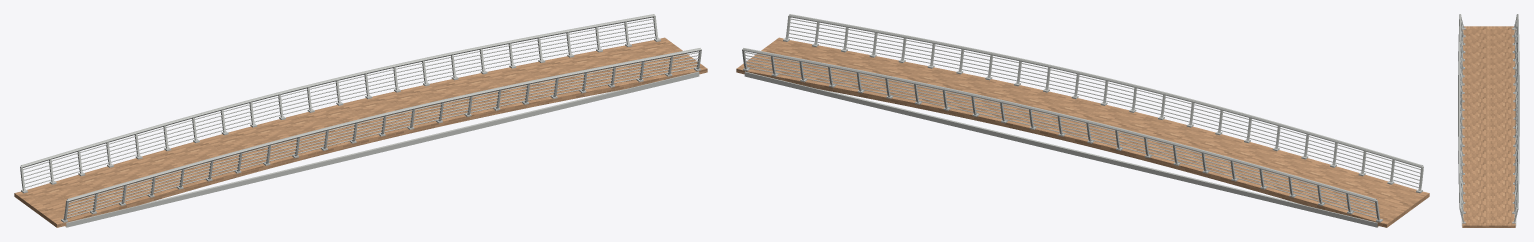
3 views of the same model, side by side, from view 1: azimuth 30°, elevation 25°; view 2: azimuth 150°, elevation 25°; view 3: azimuth 270°, elevation 25° (orthographic). The views are drawn at different scales.
Parts seen in each view (by area): view 1: libraryBridge__brickpaving, libraryBridge__steel, libraryBridge__threshold-west, libraryBridge__threshold-east; view 2: libraryBridge__brickpaving, libraryBridge__steel, libraryBridge__threshold-west, libraryBridge__threshold-east; view 3: libraryBridge__brickpaving, libraryBridge__steel, libraryBridge__threshold-east, libraryBridge__threshold-west.
Part boxes in pixels (x1,y1,x2,y2): libraryBridge__brickpaving: (26,40,698,226); libraryBridge__steel: (20,14,701,227); libraryBridge__threshold-west: (14,191,65,227); libraryBridge__threshold-east: (659,37,707,74); libraryBridge__brickpaving: (745,40,1417,226); libraryBridge__steel: (742,14,1423,227); libraryBridge__threshold-west: (1378,191,1429,227); libraryBridge__threshold-east: (736,37,784,74); libraryBridge__brickpaving: (1462,29,1515,222); libraryBridge__steel: (1458,14,1519,225); libraryBridge__threshold-east: (1462,223,1515,227); libraryBridge__threshold-west: (1464,26,1513,28).
Bounding box in the file's own units: 36.98 × 2.28 × 4.91.
2 materials, 1 textured.
